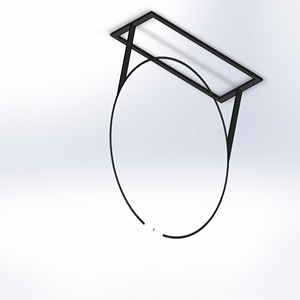circle: (106, 9, 263, 239)
